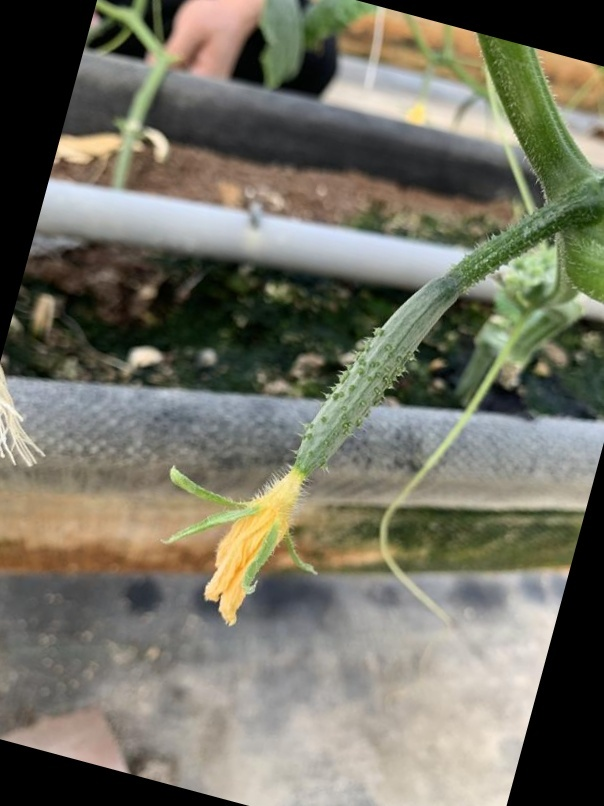bear: (163, 271, 462, 636)
